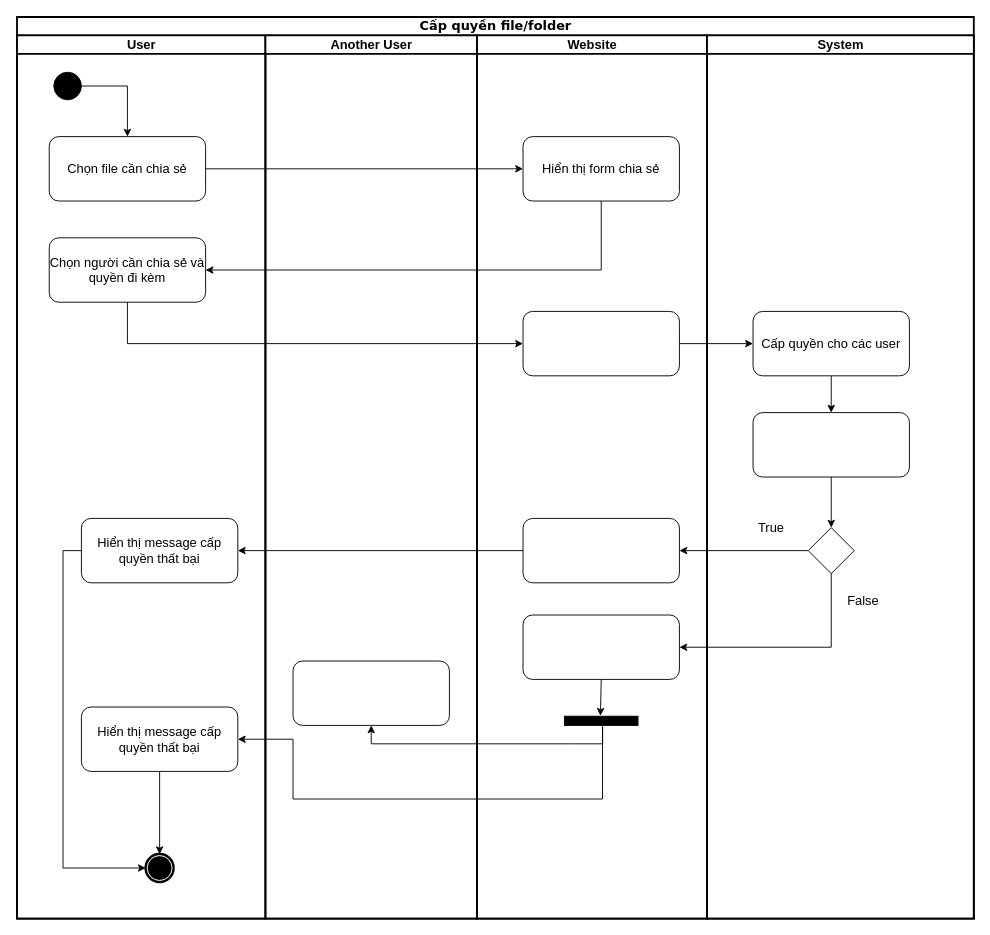
This 990x935 diagram has some shape labels left out. Each missing label, with the centre of its shape:
"Gửi message websocket cấp quyền" belongs at [600,343].
"Hiển thị message thông báo được cấp quyền" belongs at [370,692].
"Kiểm tra quyền đã tồn tại chưa ?" belongs at [830,444].
"Phản hồi message cấp quyền thành công" belongs at [600,646].
"Phản hồi message cấp quyền thất bại" belongs at [600,550].
